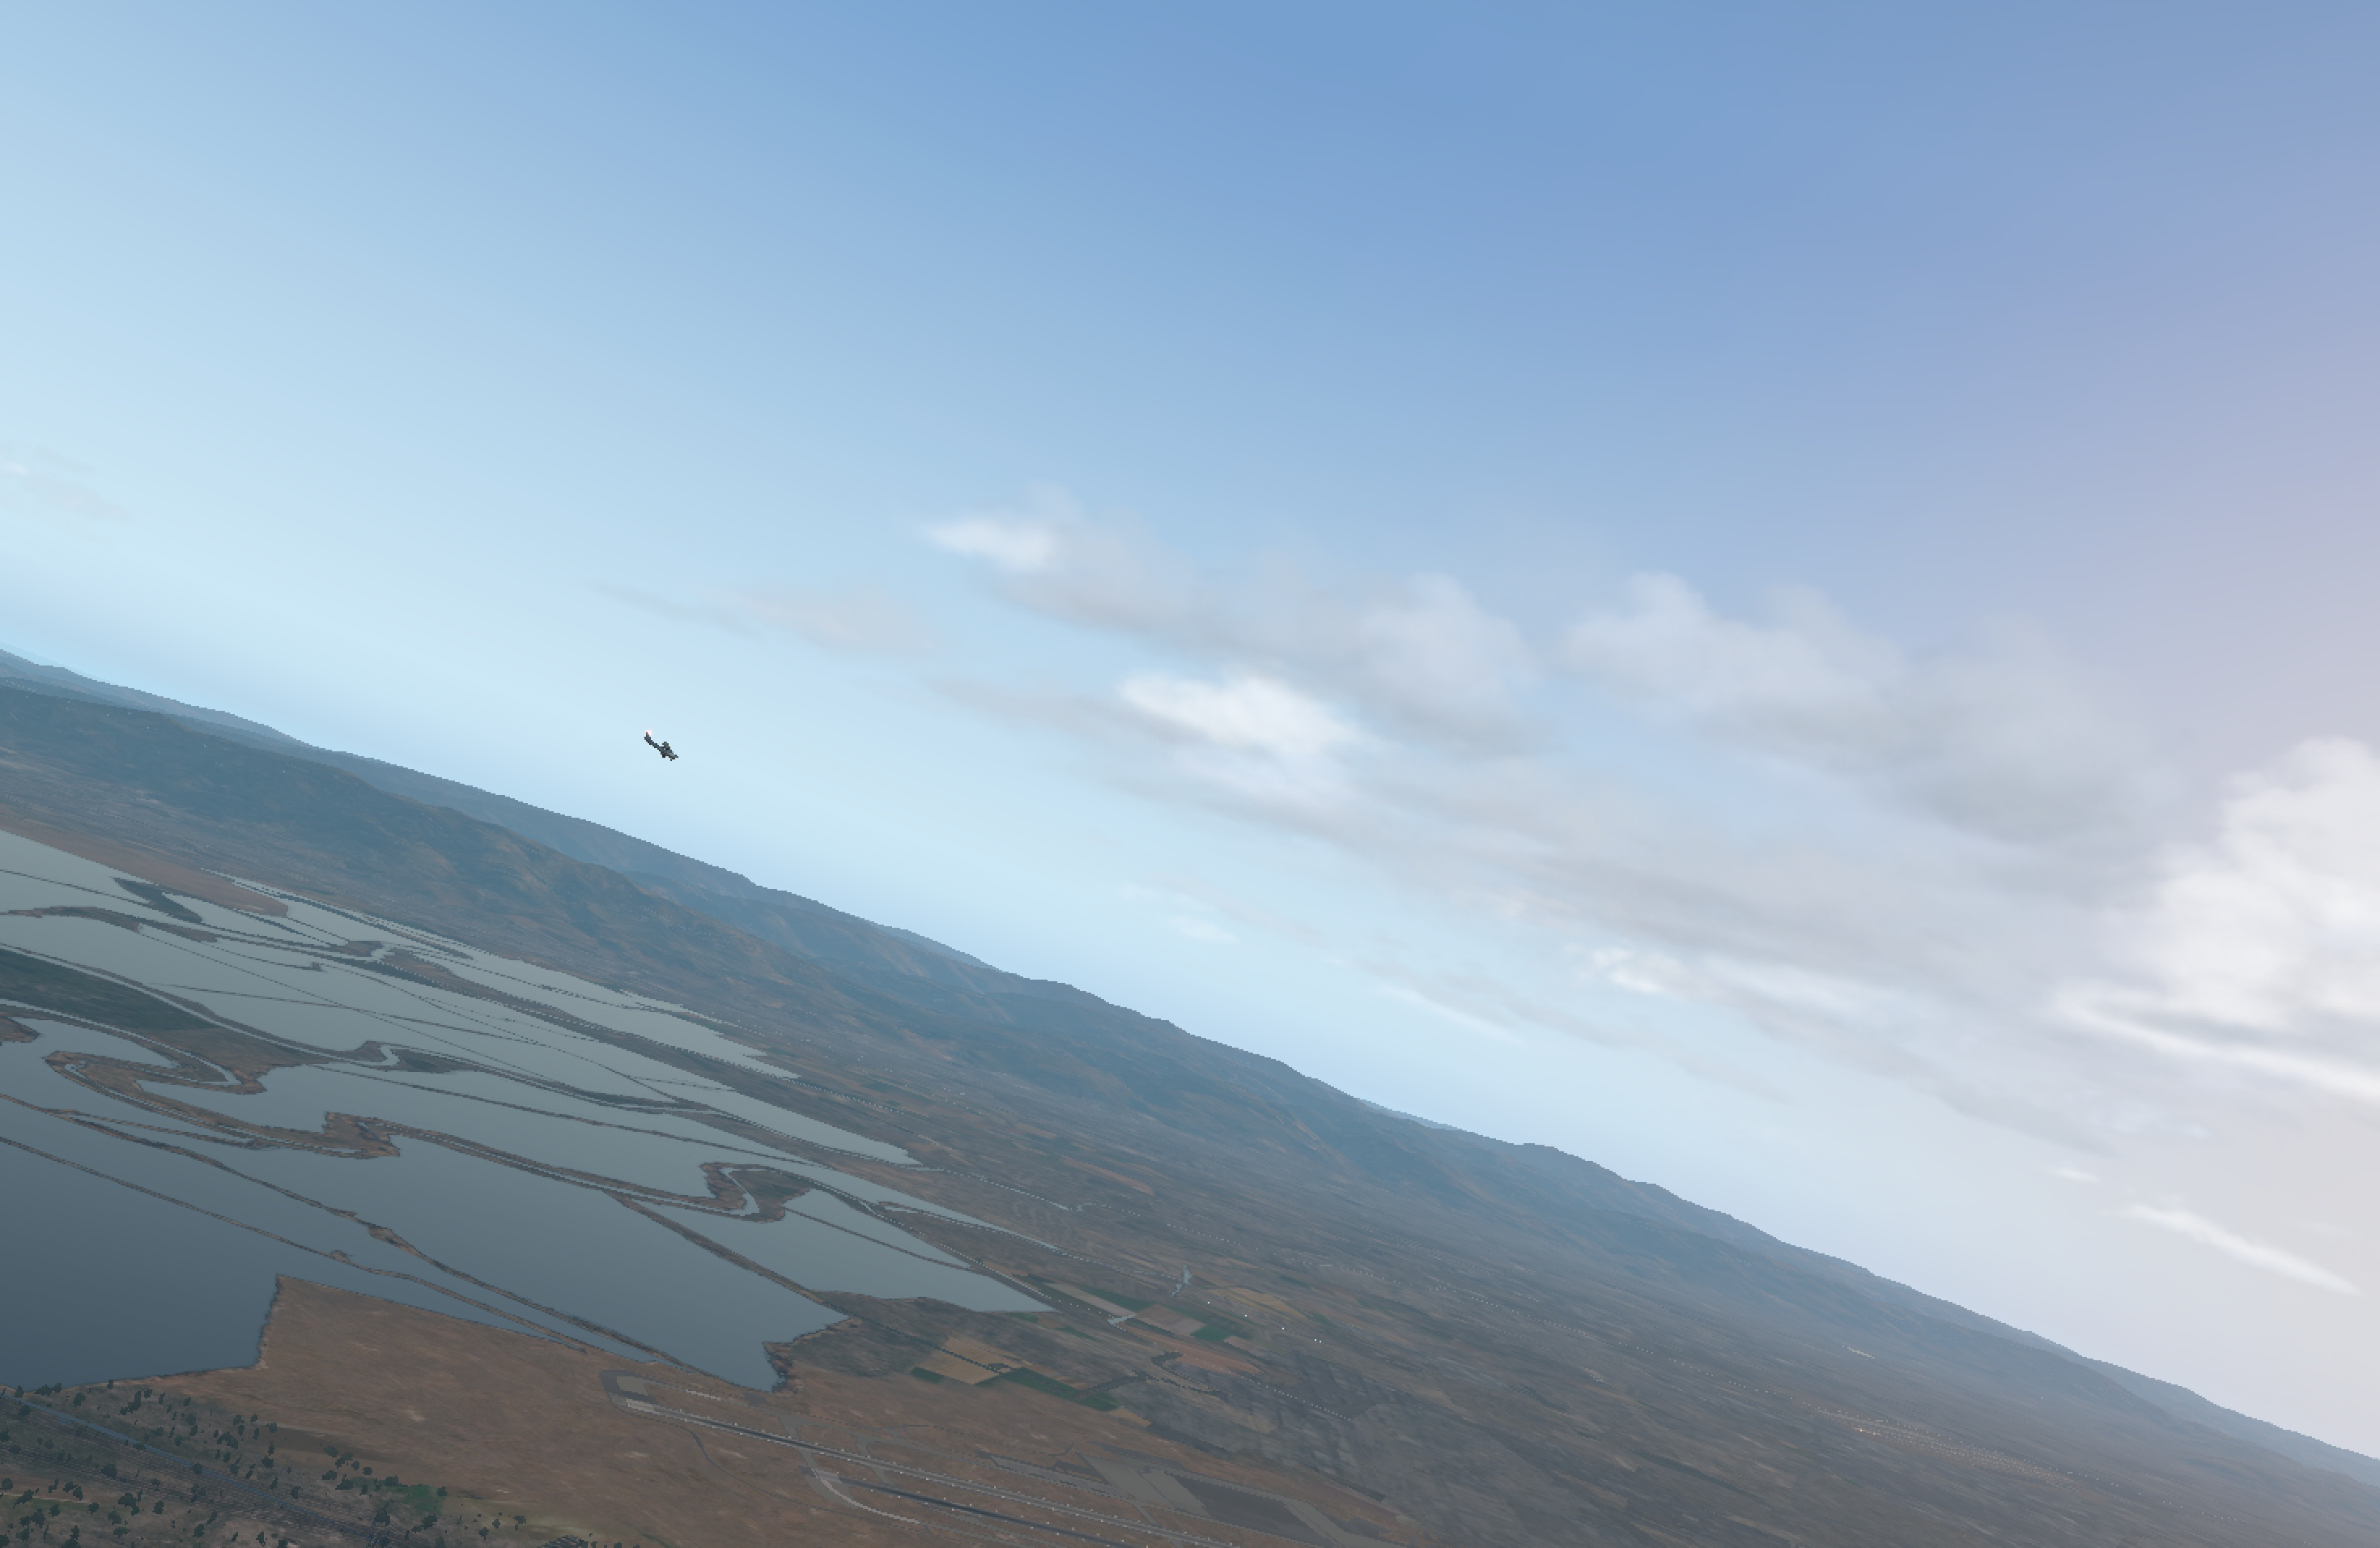aircraft: (649, 744, 687, 758)
